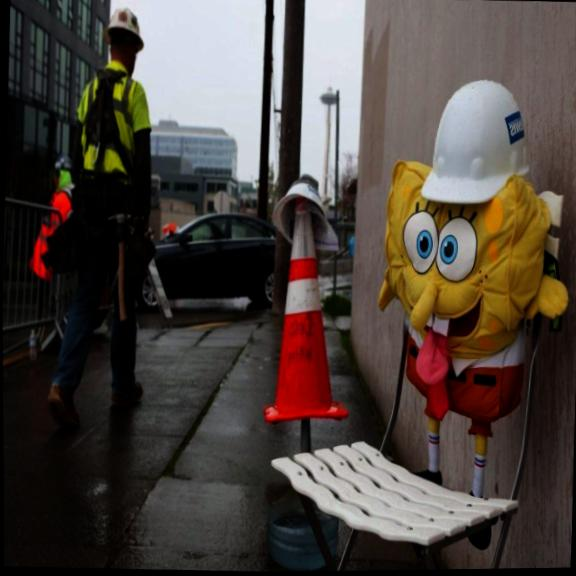safety_vest: (61, 66, 158, 189)
